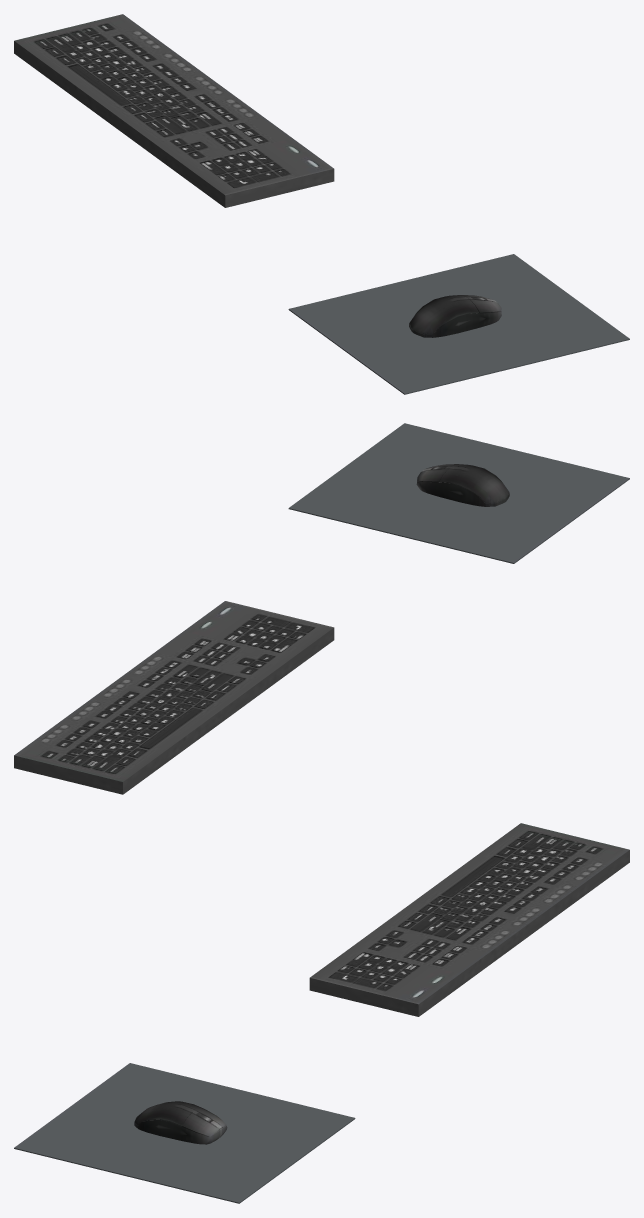
File: CK-jianpanshubiao0001-CJBZ.FBX
3 views of the same model, one above another, from view 1: azimuth 30°, elevation 25°; view 2: azimuth 150°, elevation 25°; view 3: azimuth 330°, elevation 25° (orthographic).
Parts seen in each view (by area): view 1: CK-jianpanshubiao0001-CJBZ; view 2: CK-jianpanshubiao0001-CJBZ; view 3: CK-jianpanshubiao0001-CJBZ.
Part boxes in pixels (left/top/right/bottom): CK-jianpanshubiao0001-CJBZ: left=14, top=14, right=629, bottom=394; CK-jianpanshubiao0001-CJBZ: left=14, top=423, right=629, bottom=794; CK-jianpanshubiao0001-CJBZ: left=14, top=823, right=629, bottom=1203.
Bounding box in the file's own units: 0.2027 × 0.0242 × 0.6991.
Materials: 1 (1 with a texture image).
